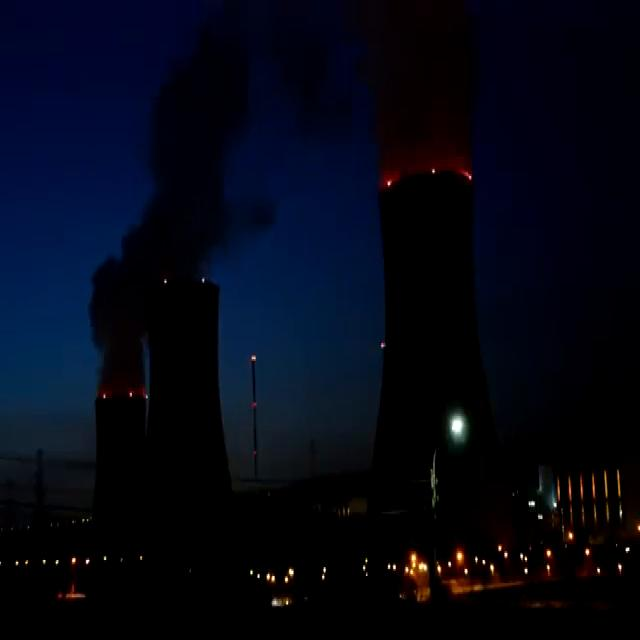smoke: (92, 0, 344, 366), (358, 0, 474, 192)
